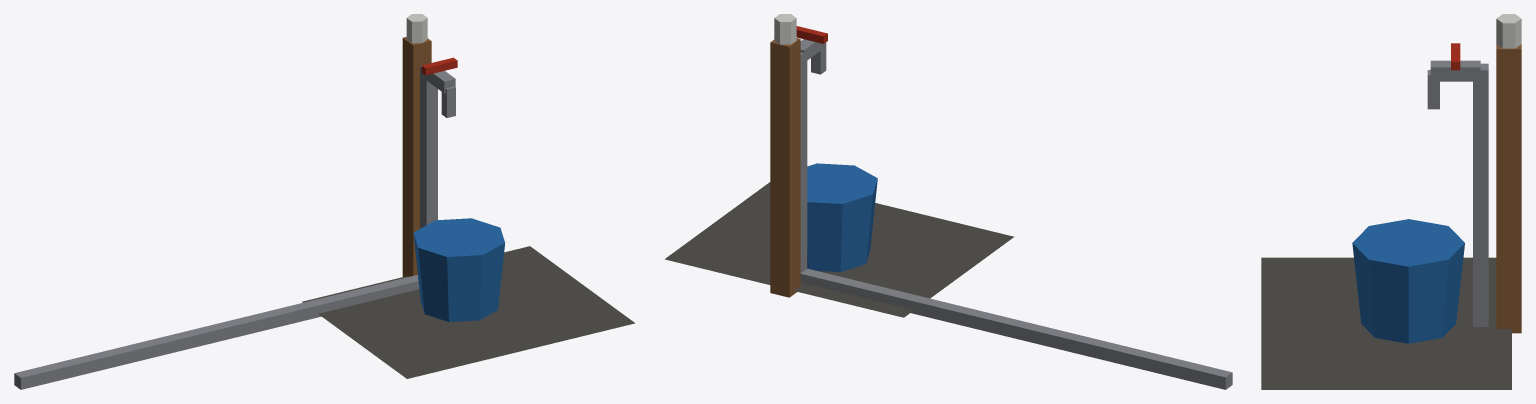
File: prop_water-tap.glb
The picture shows the model from 3 angles, left to right: view 1: azimuth 30°, elevation 25°; view 2: azimuth 150°, elevation 25°; view 3: azimuth 270°, elevation 25°; orthographic projection. The views are drawn at different scales.
Parts seen in each view (by area): view 1: body; view 2: body; view 3: body.
Part boxes in pixels (bbox=[...]): body: bbox=[14, 14, 634, 389]; body: bbox=[665, 14, 1232, 389]; body: bbox=[1261, 14, 1521, 389].
Size of the model in its own units: 2.3 by 1.09 by 0.83.
